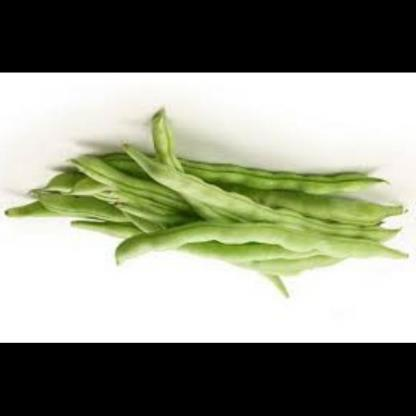fasol: (4, 112, 405, 309)
